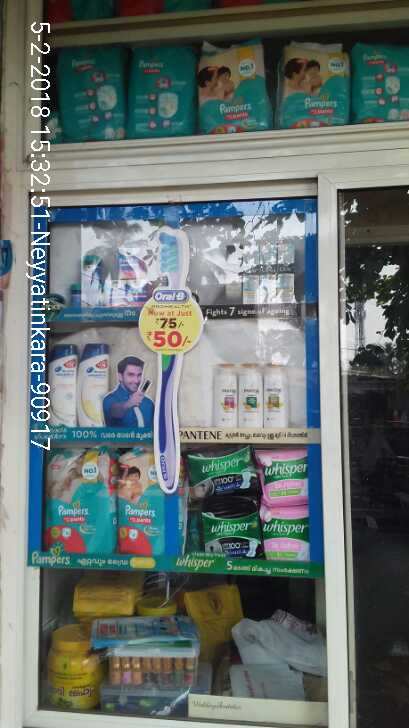vicks: (65, 241, 147, 303)
